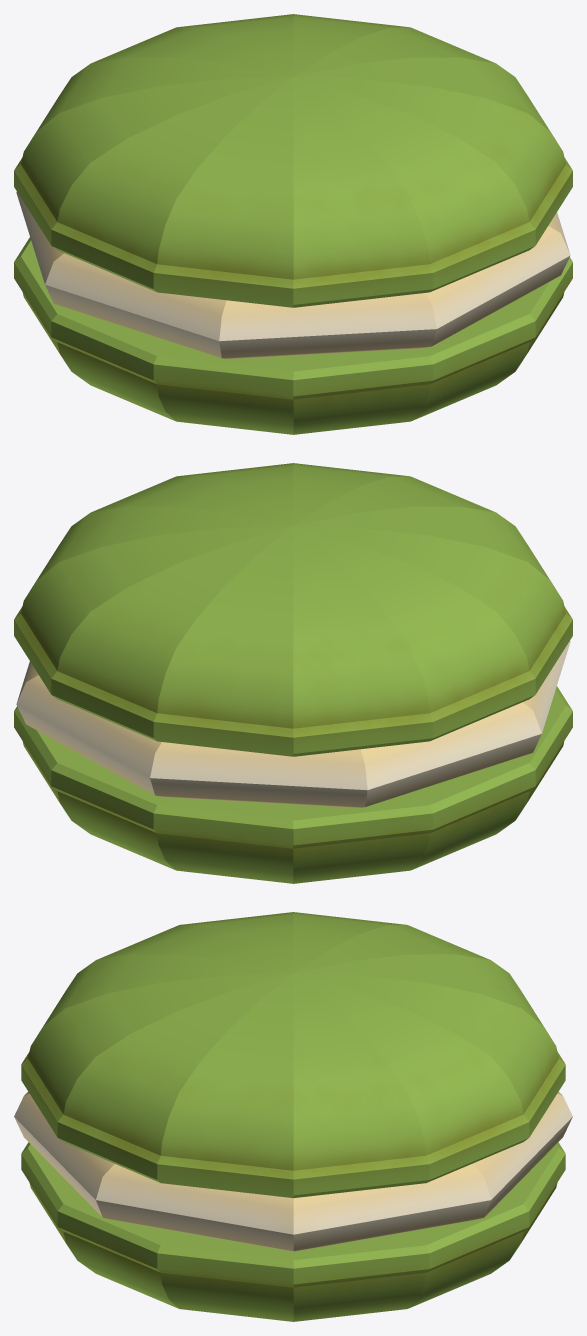
File: Macaron003.fbx
3 renders of one model, top to bottom at view 1: azimuth 30°, elevation 25°; view 2: azimuth 150°, elevation 25°; view 3: azimuth 270°, elevation 25°, orthographic. The views are drawn at different scales.
Visible parts, largest first — view 1: macaroon3; view 2: macaroon3; view 3: macaroon3.
Part boxes in pixels (x1,y1,x2,y2): macaroon3: (14,14,572,434); macaroon3: (14,463,572,883); macaroon3: (14,912,572,1321).
Bounding box in the file's own units: 1.13 × 0.643 × 1.13.
1 material, 1 textured.
